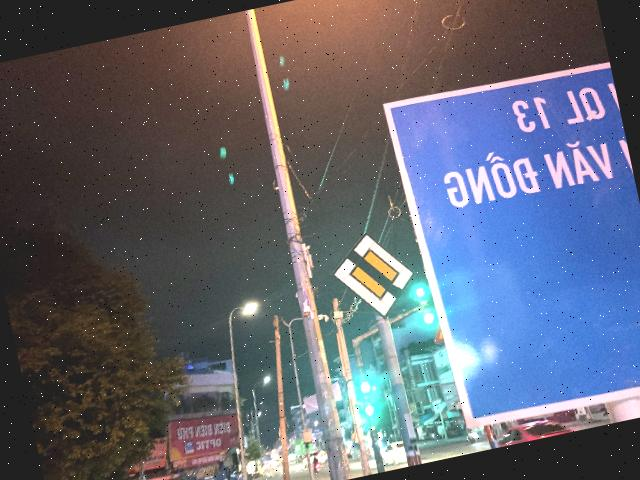het-duong-uu-tien: (324, 223, 424, 329)
